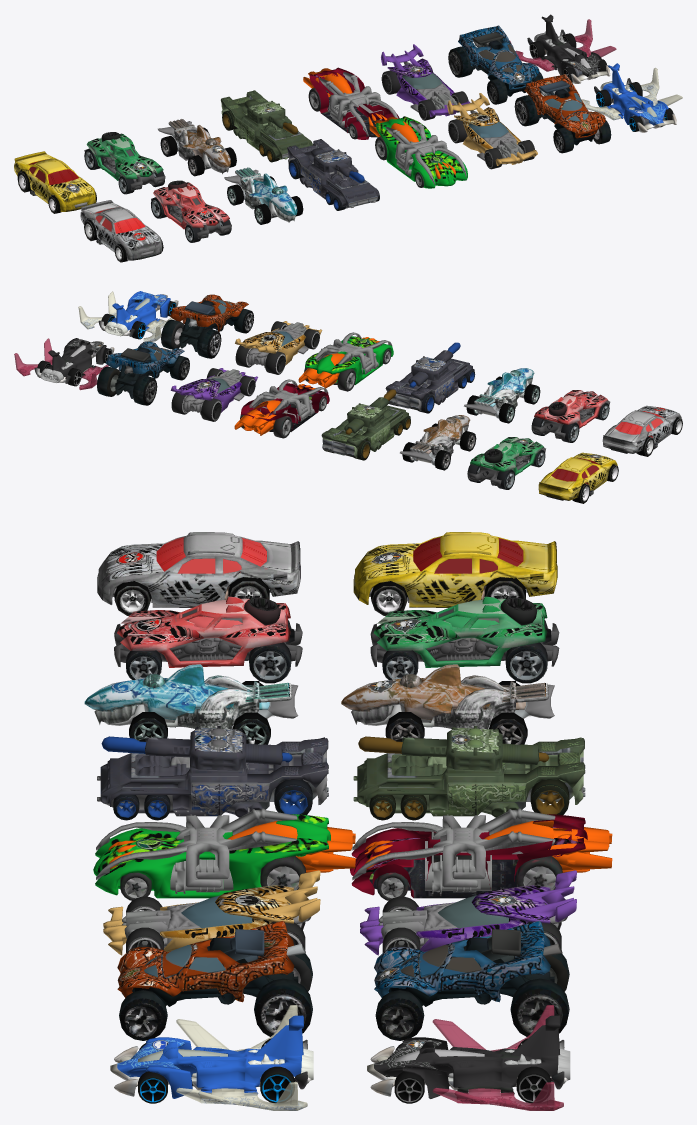
Rendered from Turbo Driver Cars.glb.
3 views of the same model, one above another, from view 1: azimuth 30°, elevation 25°; view 2: azimuth 150°, elevation 25°; view 3: azimuth 270°, elevation 25° (orthographic). The views are drawn at different scales.
Parts seen in each view (by area): view 1: "invader_body", "stock_body", "stock_body".001, "invader_body".001, "dakar_body", "dakar_body".001, "arachno_body", "rd_body", "rd_body".001, "dk_body", "arachno_body".001, "arachno_chrome".001 (+29 smaller); view 2: "invader_body".001, "stock_body", "stock_body".001, "invader_body", "dakar_body", "dakar_body".001, "rd_body", "rd_body".001, "arachno_body", "jt_body", "jt_body".001, "arachno_chrome".001 (+37 smaller); view 3: "invader_body", "invader_body".001, "stock_body", "stock_body".001, "dakar_body", "dakar_body".001, "arachno_body", "arachno_chrome".001, "rd_body", "rd_body".001, "jt_body", "jt_body".001 (+54 smaller).
Part boxes in pixels (box(x1,y1,x2,y2)): "invader_body": box(287, 139, 379, 208); "stock_body": box(80, 200, 162, 260); "stock_body".001: box(14, 151, 95, 211); "invader_body".001: box(220, 90, 312, 159); "dakar_body": box(524, 74, 605, 145); "dakar_body".001: box(458, 25, 539, 96); "arachno_body": box(376, 116, 467, 188); "rd_body": box(153, 182, 229, 229); "rd_body".001: box(86, 133, 163, 180); "dk_body": box(447, 93, 537, 165); "arachno_body".001: box(309, 67, 399, 139); "arachno_chrome".001: box(318, 72, 398, 136); "invader_body".001: box(321, 405, 410, 457); "stock_body": box(602, 405, 681, 453); "stock_body".001: box(538, 452, 617, 500); "invader_body": box(385, 358, 474, 410); "dakar_body": box(170, 294, 248, 351); "dakar_body".001: box(106, 341, 184, 398); "rd_body": box(534, 390, 608, 428); "rd_body".001: box(470, 437, 544, 475); "arachno_body": box(305, 336, 393, 384); "jt_body": box(111, 291, 170, 330); "jt_body".001: box(46, 338, 106, 378); "arachno_chrome".001: box(249, 379, 328, 424); "invader_body": box(97, 737, 328, 817); "invader_body".001: box(353, 737, 585, 817); "stock_body": box(97, 532, 300, 607); "stock_body".001: box(353, 532, 557, 607); "dakar_body": box(117, 921, 298, 1006); "dakar_body".001: box(374, 920, 554, 1006); "arachno_body": box(93, 814, 330, 898); "arachno_chrome".001: box(352, 808, 555, 893); "rd_body": box(117, 596, 290, 667); "rd_body".001: box(373, 596, 547, 667); "jt_body": box(117, 1015, 303, 1098); "jt_body".001: box(374, 1015, 560, 1098).
Size of the model in its own units: 10.08 by 0.7 by 4.11.
Materials: 21 (21 with a texture image).
